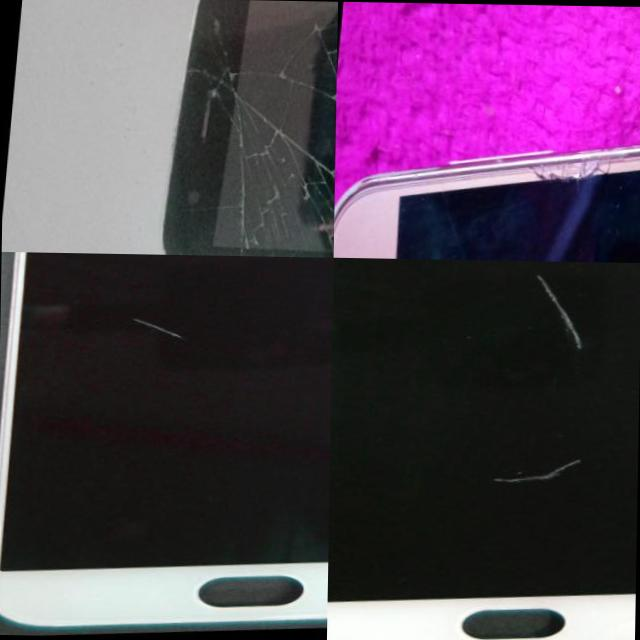scratch: (524, 272, 586, 356), (116, 310, 190, 348), (490, 457, 580, 488)
screen crack: (154, 0, 337, 256), (478, 130, 637, 216)
